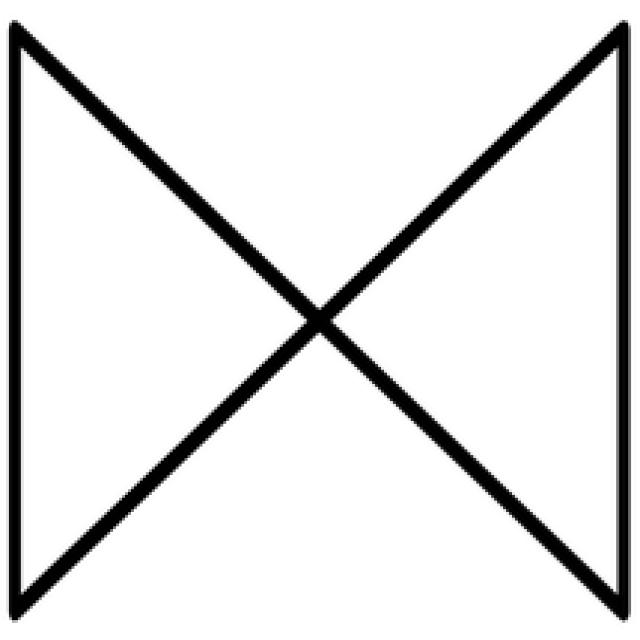Gate valve: (12, 20, 623, 614)
